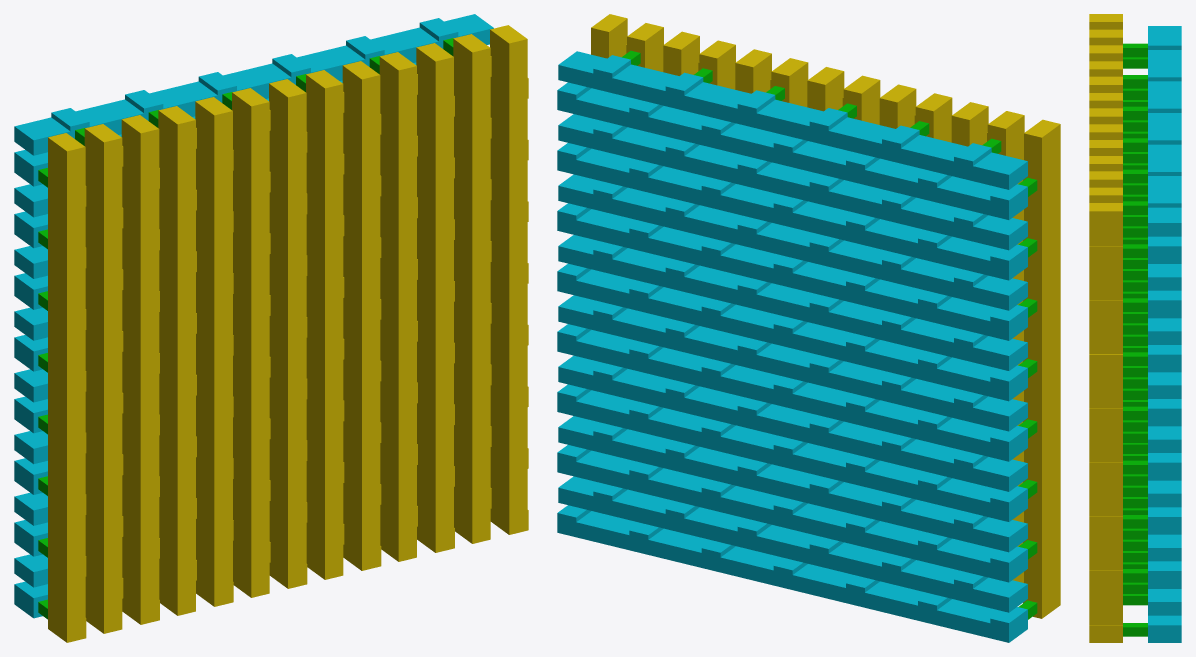
Rendered from crossed_metal.glb.
3 views of the same model, side by side, from view 1: azimuth 30°, elevation 25°; view 2: azimuth 150°, elevation 25°; view 3: azimuth 270°, elevation 25° (orthographic). The views are drawn at different scales.
Parts seen in each view (by area): view 1: 3,0,8, 3,0,0, 3,0,5, 3,0,3, 3,0,4, 3,0,9, 3,0,11, 3,0,10, 3,0,2, 3,0,7, 3,0,1, 3,0,6 (+31 smaller); view 2: 3,0,0, 2,0,15, 2,0,1, 2,0,3, 2,0,13, 2,0,9, 2,0,11, 2,0,5, 2,0,7, 2,0,10, 2,0,12, 2,0,14 (+20 smaller); view 3: 3,0,12, 2,0,15, 2,0,3, 2,0,5, 2,0,1, 2,0,7, 2,0,9, 2,0,11, 2,0,13, 2,0,35, 2,0,48, 2,0,61 (+83 smaller).
Part boxes in pixels (left/top/right/bottom): 3,0,8: left=342, top=61, right=380, bottom=570; 3,0,0: left=48, top=133, right=85, bottom=642; 3,0,5: left=232, top=88, right=269, bottom=597; 3,0,3: left=158, top=106, right=195, bottom=615; 3,0,4: left=195, top=97, right=232, bottom=606; 3,0,9: left=379, top=52, right=416, bottom=561; 3,0,11: left=453, top=34, right=490, bottom=543; 3,0,10: left=416, top=43, right=453, bottom=552; 3,0,2: left=121, top=115, right=159, bottom=624; 3,0,7: left=306, top=70, right=343, bottom=579; 3,0,1: left=84, top=124, right=122, bottom=633; 3,0,6: left=269, top=79, right=306, bottom=588; 3,0,0: left=1024, top=119, right=1060, bottom=618; 2,0,15: left=558, top=51, right=1027, bottom=189; 2,0,1: left=558, top=476, right=1027, bottom=612; 2,0,3: left=558, top=416, right=1027, bottom=552; 2,0,13: left=558, top=114, right=1027, bottom=250; 2,0,9: left=558, top=235, right=1027, bottom=370; 2,0,11: left=558, top=174, right=1027, bottom=310; 2,0,5: left=558, top=355, right=1027, bottom=491; 2,0,7: left=558, top=295, right=1027, bottom=431; 2,0,10: left=558, top=209, right=1027, bottom=340; 2,0,12: left=558, top=148, right=1027, bottom=280; 2,0,14: left=558, top=88, right=1027, bottom=219; 3,0,12: left=1089, top=203, right=1122, bottom=624; 2,0,15: left=1148, top=26, right=1181, bottom=236; 2,0,3: left=1148, top=534, right=1181, bottom=561; 2,0,5: left=1148, top=480, right=1181, bottom=507; 2,0,1: left=1148, top=589, right=1181, bottom=615; 2,0,7: left=1148, top=426, right=1181, bottom=452; 2,0,9: left=1148, top=372, right=1181, bottom=398; 2,0,11: left=1148, top=318, right=1181, bottom=344; 2,0,13: left=1148, top=264, right=1181, bottom=290; 2,0,35: left=1148, top=562, right=1181, bottom=588; 2,0,48: left=1148, top=508, right=1181, bottom=534; 2,0,61: left=1148, top=454, right=1181, bottom=480.
Size of the model in its own units: 5.01 by 5.1 by 0.99.
